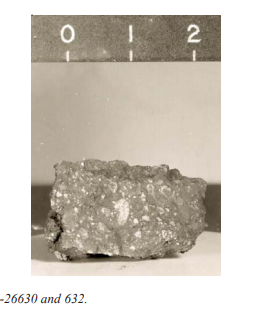Breccia: (42, 150, 216, 262)
